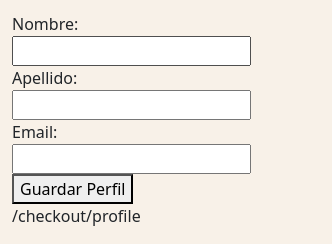
ProfileForm › con datos válidos completa el paso y navega a /checkout/shipping
This screenshot has width=332, height=244.
In the field labelled "Nombre:": {"x": 132, "y": 51} [12,36,251,66], type "Caro"
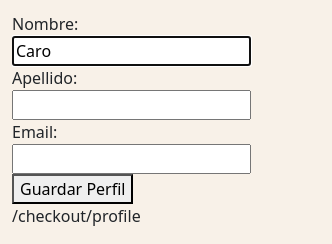
In the field labelled "Apellido:": {"x": 132, "y": 105} [12,90,251,120], type "Aguirre"
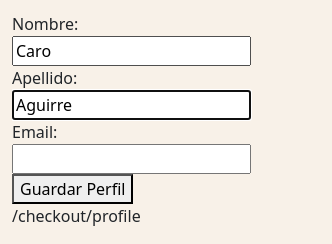
In the field labelled "Email:": {"x": 132, "y": 159} [12,144,251,174], type "caro@example.com"
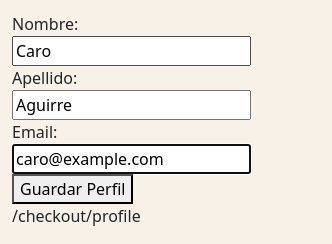
Click the button "Guardar Perfil": {"x": 73, "y": 189} [12,174,134,204]
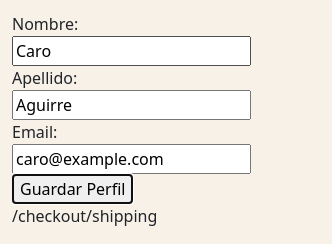
Result: the text "/checkout/shipping" is shown at [12,205,157,227]
